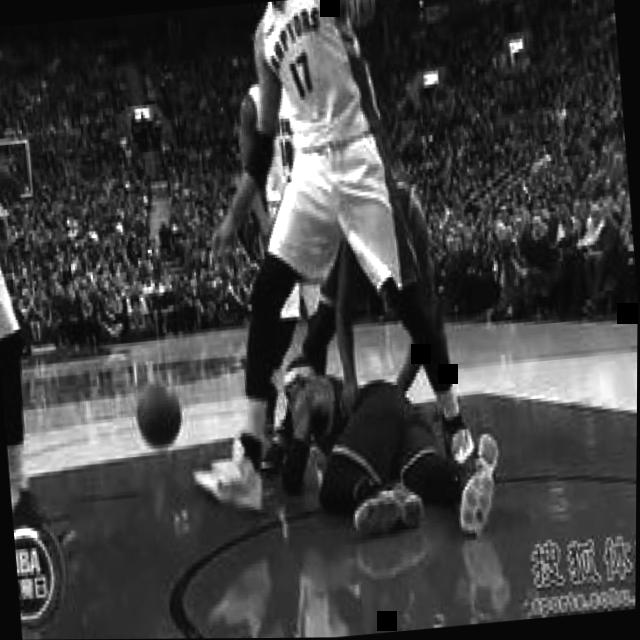Fall-Detected: (248, 315, 517, 560)
